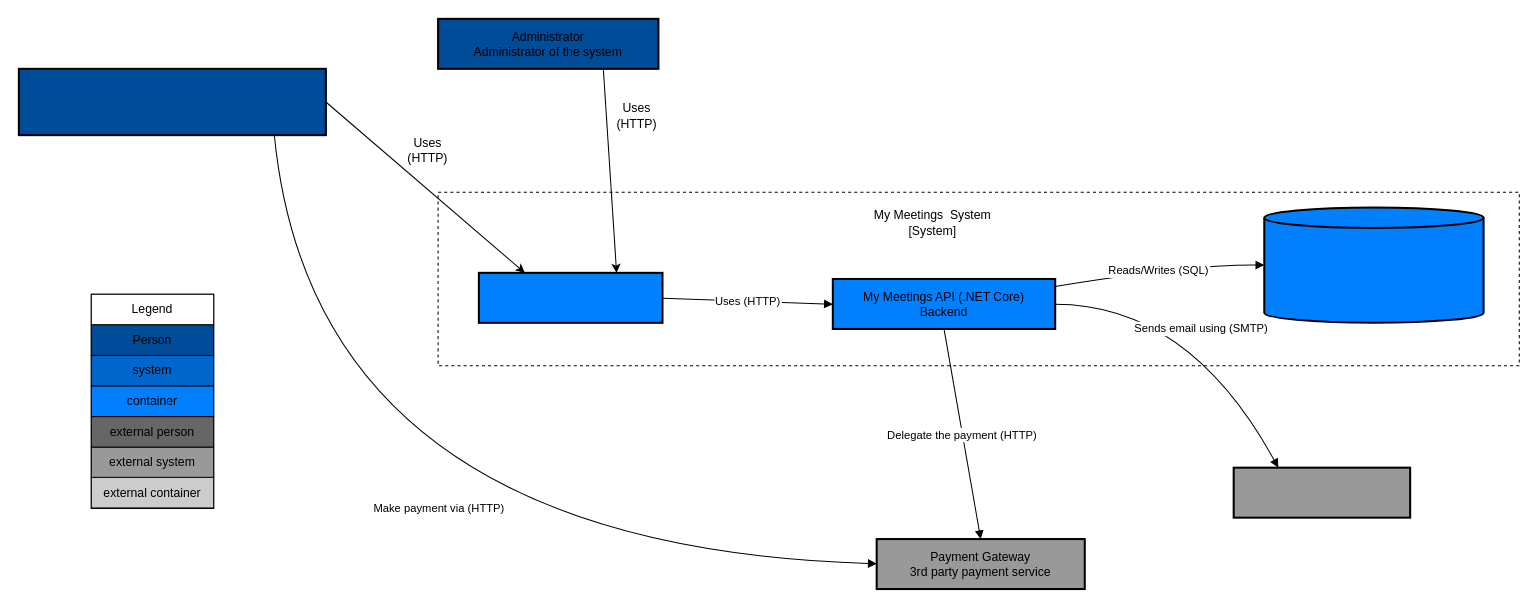
The diagram is 1537 pixels wide and 607 high, and some of its shapes have lost their labels. Here are the shapes that lost their labels. From the top down, the centre of each, then its label:
the point at 171,101: Member Organizer of meeting groups, meetings, member of group, meeting attendee
the point at 1373,264: Database (Microsoft SQL) Data about meeting groups, members, meetings etc.
the point at 570,297: SPA (ReactJS) GUI for the application
the point at 1321,492: Email System 3rd party SMTP server
